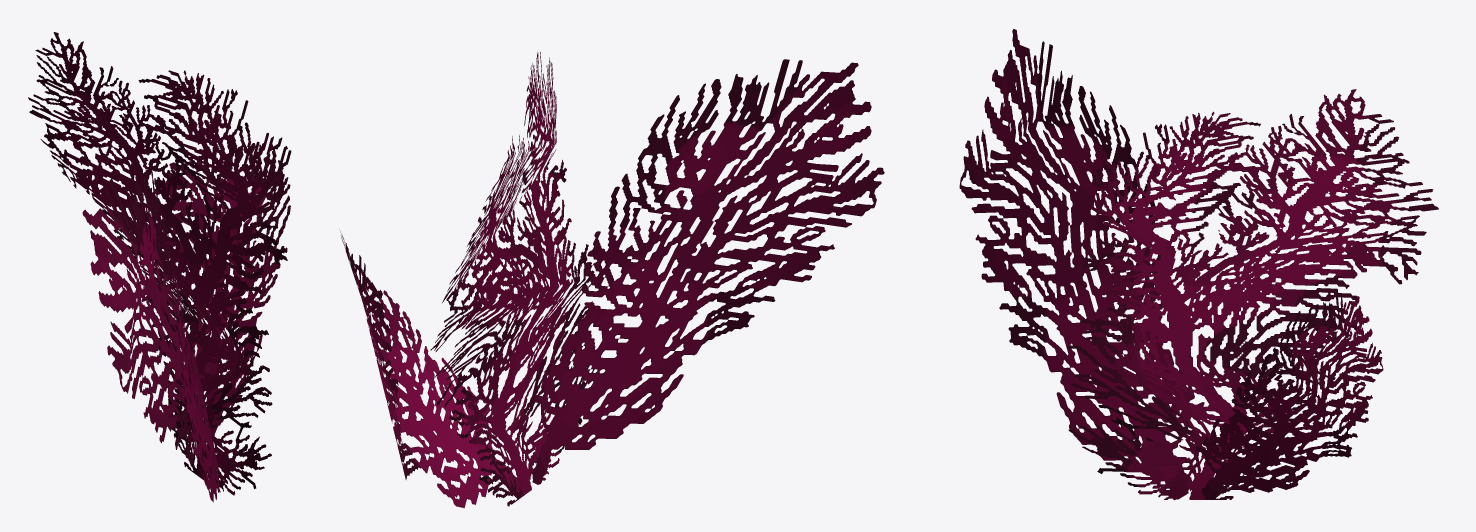
File: Seafan 1_preview_3DS_simplified.glb
3 views of the same model, side by side, from view 1: azimuth 30°, elevation 25°; view 2: azimuth 150°, elevation 25°; view 3: azimuth 270°, elevation 25° (orthographic). The views are drawn at different scales.
Parts seen in each view (by area): view 1: Marine Park Empire model; view 2: Marine Park Empire model; view 3: Marine Park Empire model.
Boxes of the visible parts, bbox=[...] form: Marine Park Empire model: bbox=[28, 32, 291, 502]; Marine Park Empire model: bbox=[339, 52, 884, 508]; Marine Park Empire model: bbox=[959, 29, 1438, 500].
Bounding box in the file's own units: 95.63 × 101 × 114.
1 material, 1 textured.
